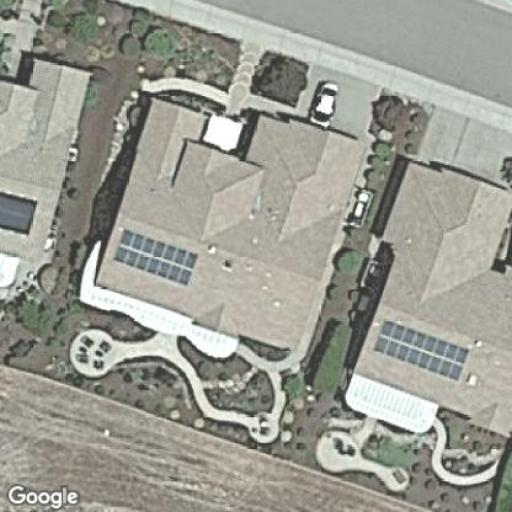solar-panel: (370, 316, 474, 382), (110, 224, 201, 288), (0, 185, 42, 241)
